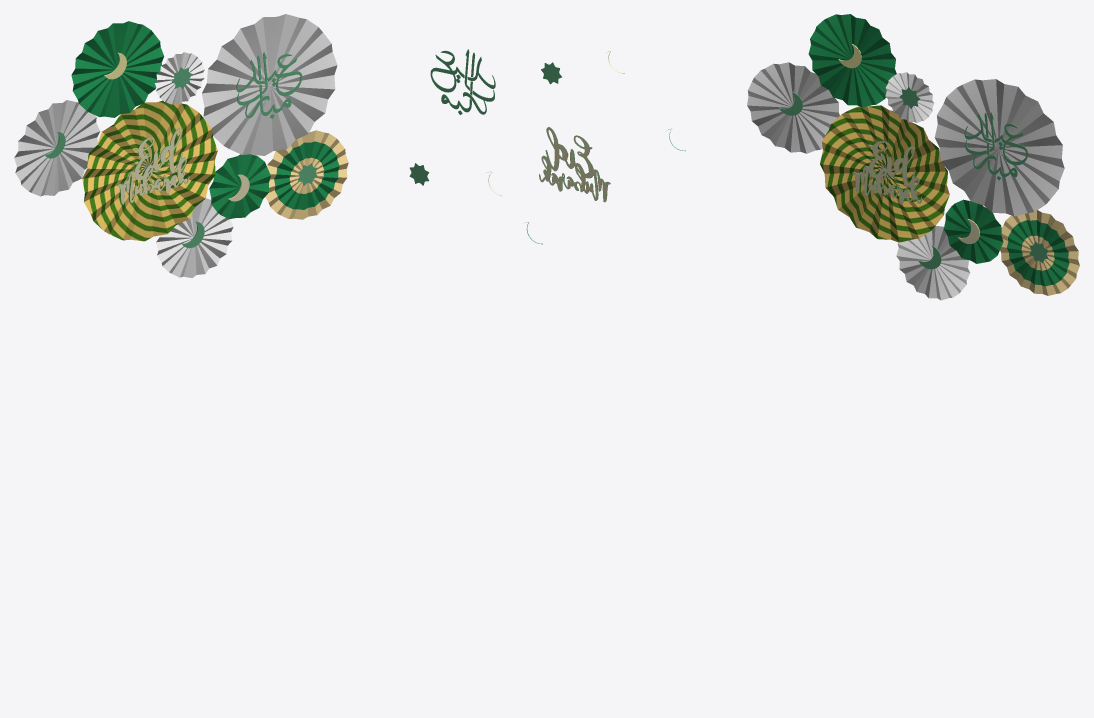
The model's file is hariraya_fan_deco.gltf.
3 views of the same model, side by side, from view 1: azimuth 30°, elevation 25°; view 2: azimuth 150°, elevation 25°; view 3: azimuth 330°, elevation 25° (orthographic). The views are drawn at different scales.
Visible parts, largest first — view 1: fan; view 2: fan; view 3: fan.
Boxes of the visible parts, x1,y1,x2,y2 form: fan: (14,14,348,277); fan: (409,49,685,244); fan: (747,14,1079,300).
Size of the model in its own units: 0.8394 by 1.66 by 0.0404.
1 material, 1 textured.
